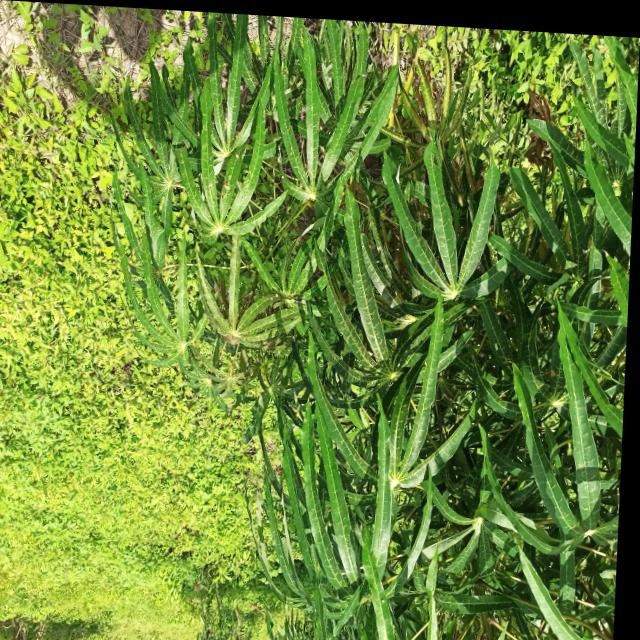Maleza: (0, 459, 236, 638), (4, 9, 108, 256), (3, 371, 187, 481), (6, 234, 116, 393)
Mosca: (220, 179, 231, 201), (226, 150, 241, 163), (204, 179, 214, 191)
